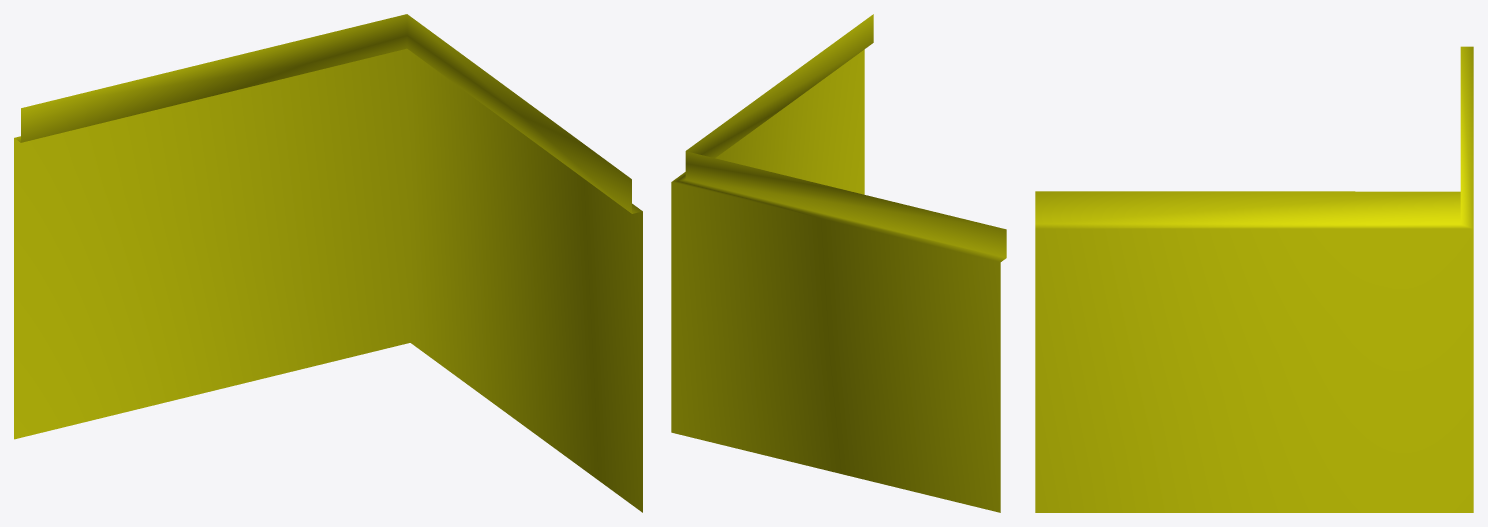
The model's file is ILUMINADOR.fbx.
3 renders of one model, left to right at view 1: azimuth 30°, elevation 25°; view 2: azimuth 150°, elevation 25°; view 3: azimuth 270°, elevation 25°, orthographic. The views are drawn at different scales.
Visible parts, largest first — view 1: ILUMINADOR; view 2: ILUMINADOR; view 3: ILUMINADOR.
Part boxes in pixels (x1,y1,x2,y2): ILUMINADOR: [14, 14, 642, 512]; ILUMINADOR: [671, 14, 1006, 512]; ILUMINADOR: [1035, 46, 1473, 512].
Bounding box in the file's own units: 0.4921 × 0.399 × 0.5.
